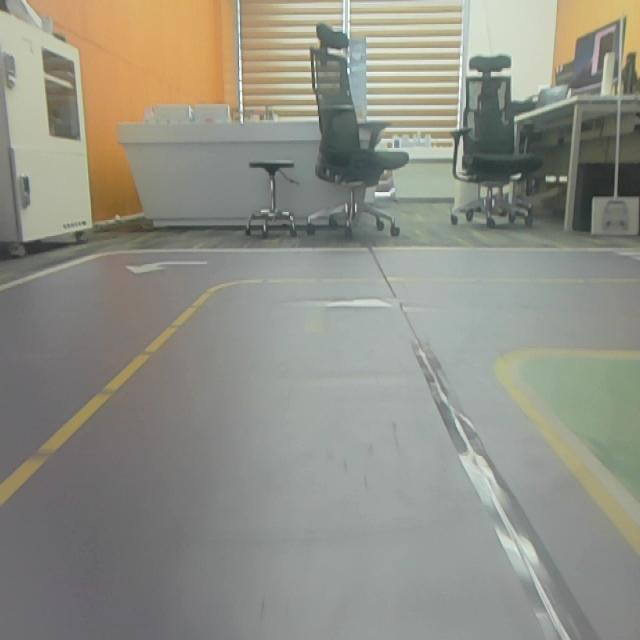left_lane: (0, 287, 220, 509)
right_lane: (490, 367, 640, 557)
